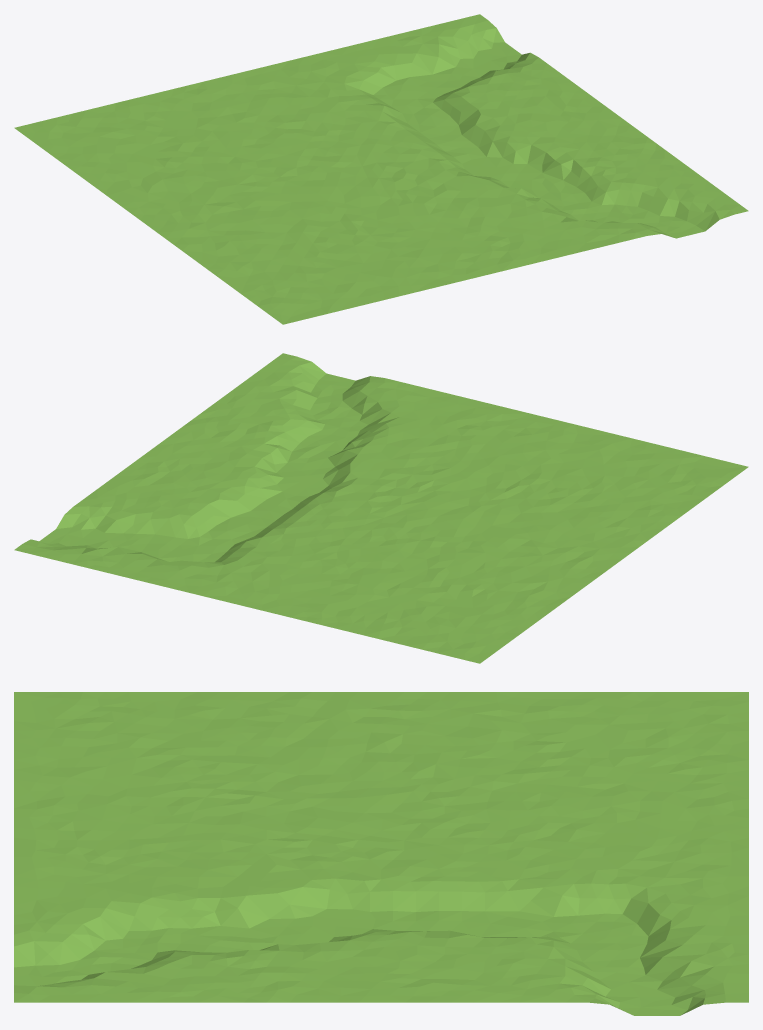
Rendered from MT_River_L_e_01_R.fbx.
3 views of the same model, one above another, from view 1: azimuth 30°, elevation 25°; view 2: azimuth 150°, elevation 25°; view 3: azimuth 270°, elevation 25° (orthographic). The views are drawn at different scales.
Parts seen in each view (by area): view 1: MT_River_L_e_01_R; view 2: MT_River_L_e_01_R; view 3: MT_River_L_e_01_R.
Part boxes in pixels (box(x1,y1,x2,y2)): MT_River_L_e_01_R: box(14, 14, 748, 324); MT_River_L_e_01_R: box(14, 353, 748, 663); MT_River_L_e_01_R: box(14, 692, 748, 1015).
Size of the model in its own units: 100 by 2.21 by 100.
